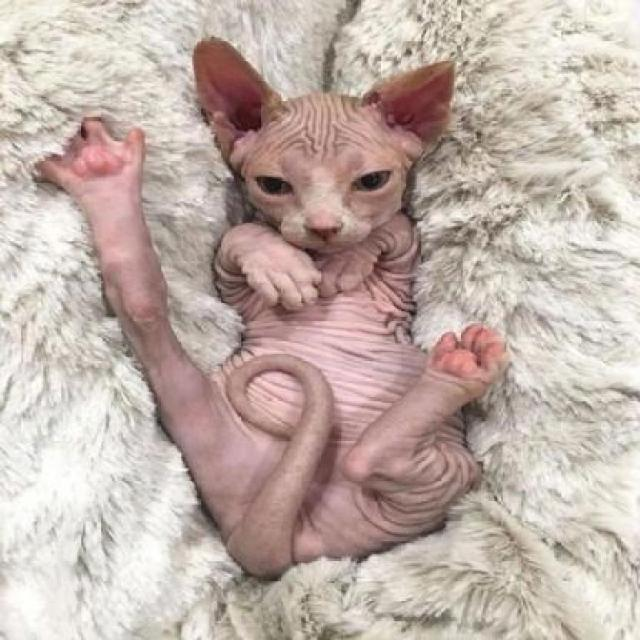cat: (16, 38, 567, 570)
